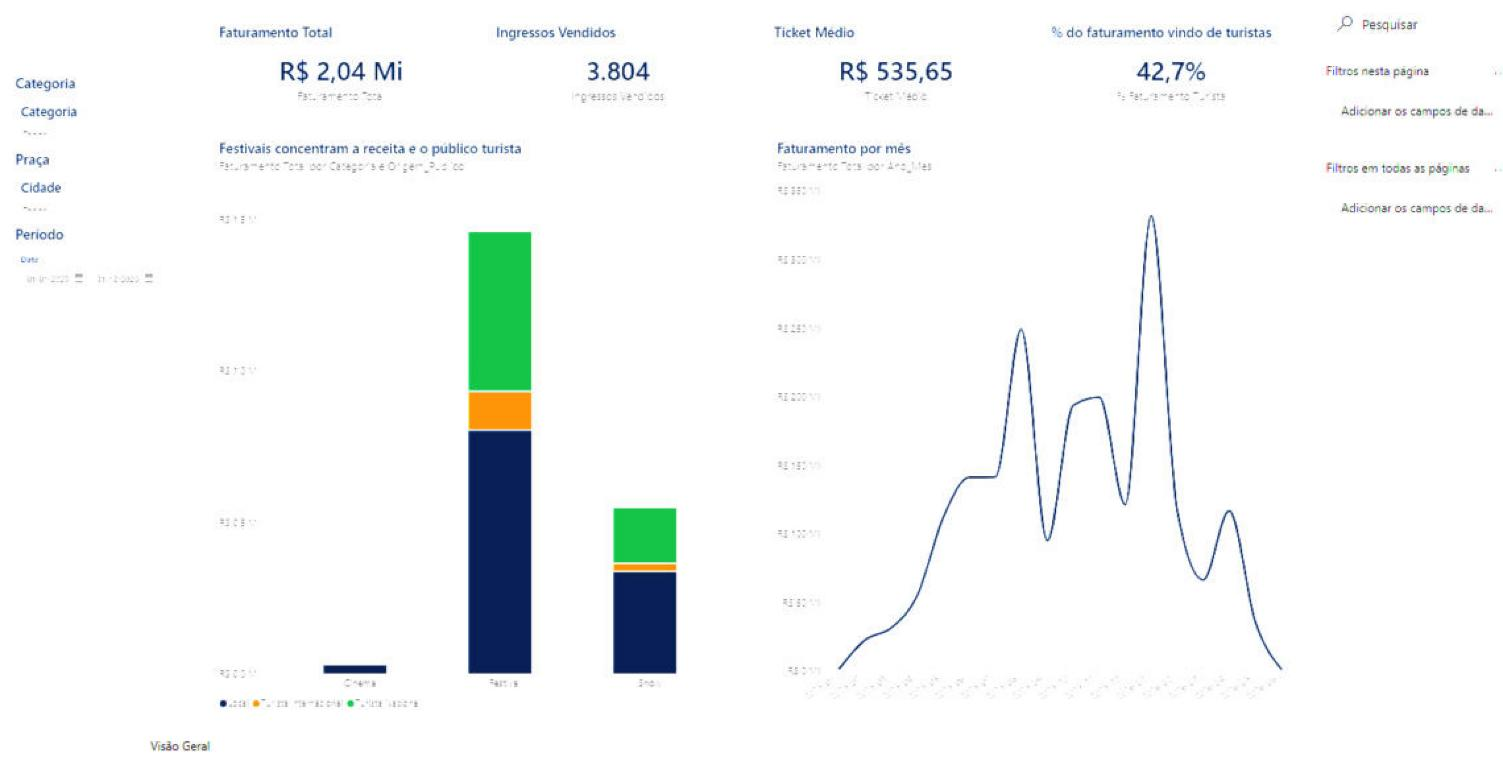

Layout of this report page (visuals, bound fields, positions):
{"tool":"powerbi","page":{"name":"Visão Geral","canvas":[1920,1080],"ordinal":0},"visuals":[{"type":"card","title":"Faturamento Total","fields":{"Values":["Fato_Vendas_Ingressos.Faturamento Total"]},"box":[300,20,390,150],"z":0},{"type":"card","title":"Ingressos Vendidos","fields":{"Values":["Fato_Vendas_Ingressos.Ingressos Vendidos"]},"box":[705,20,390,150],"z":0},{"type":"card","title":"Ticket Médio","fields":{"Values":["Fato_Vendas_Ingressos.Ticket Médio"]},"box":[1110,20,390,150],"z":0},{"type":"card","title":"% do faturamento vindo de turistas","fields":{"Values":["Fato_Vendas_Ingressos.% Faturamento Turista"]},"box":[1515,20,385,150],"z":0},{"type":"slicer","title":"Categoria","fields":{"Values":["Dim_Evento.Categoria"]},"box":[20,110,260,90],"z":0},{"type":"columnChart","title":"Festivais concentram a receita e o público turista","fields":{"Category":["Dim_Evento.Categoria"],"Series":["Fato_Vendas_Ingressos.Origem_Publico"],"Y":["Fato_Vendas_Ingressos.Faturamento Total"]},"box":[300,190,800,870],"z":0},{"type":"lineChart","title":"Faturamento por mês","fields":{"Category":["Dim_Calendario.Ano_Mes"],"Y":["Fato_Vendas_Ingressos.Faturamento Total"]},"box":[1115,190,785,870],"z":0},{"type":"slicer","title":"Praça","fields":{"Values":["Dim_Praca.Cidade"]},"box":[20,220,260,90],"z":0},{"type":"slicer","title":"Período","fields":{"Values":["Dim_Calendario.Data"]},"box":[20,330,260,120],"z":0}]}

Visuals, with their boxes on the page's 1920x1080 design canvas (x1, y1, x2, y2). These are canvas units, not pixel positions in the 1503x765 screenshot, which may show the page scaled, cropped or inside an application window:
"Faturamento Total" card: {"x1": 300, "y1": 20, "x2": 690, "y2": 170}
"Ingressos Vendidos" card: {"x1": 705, "y1": 20, "x2": 1095, "y2": 170}
"Ticket Médio" card: {"x1": 1110, "y1": 20, "x2": 1500, "y2": 170}
"% do faturamento vindo de turistas" card: {"x1": 1515, "y1": 20, "x2": 1900, "y2": 170}
"Categoria" slicer: {"x1": 20, "y1": 110, "x2": 280, "y2": 200}
"Festivais concentram a receita e o público turista" columnChart: {"x1": 300, "y1": 190, "x2": 1100, "y2": 1060}
"Faturamento por mês" lineChart: {"x1": 1115, "y1": 190, "x2": 1900, "y2": 1060}
"Praça" slicer: {"x1": 20, "y1": 220, "x2": 280, "y2": 310}
"Período" slicer: {"x1": 20, "y1": 330, "x2": 280, "y2": 450}
